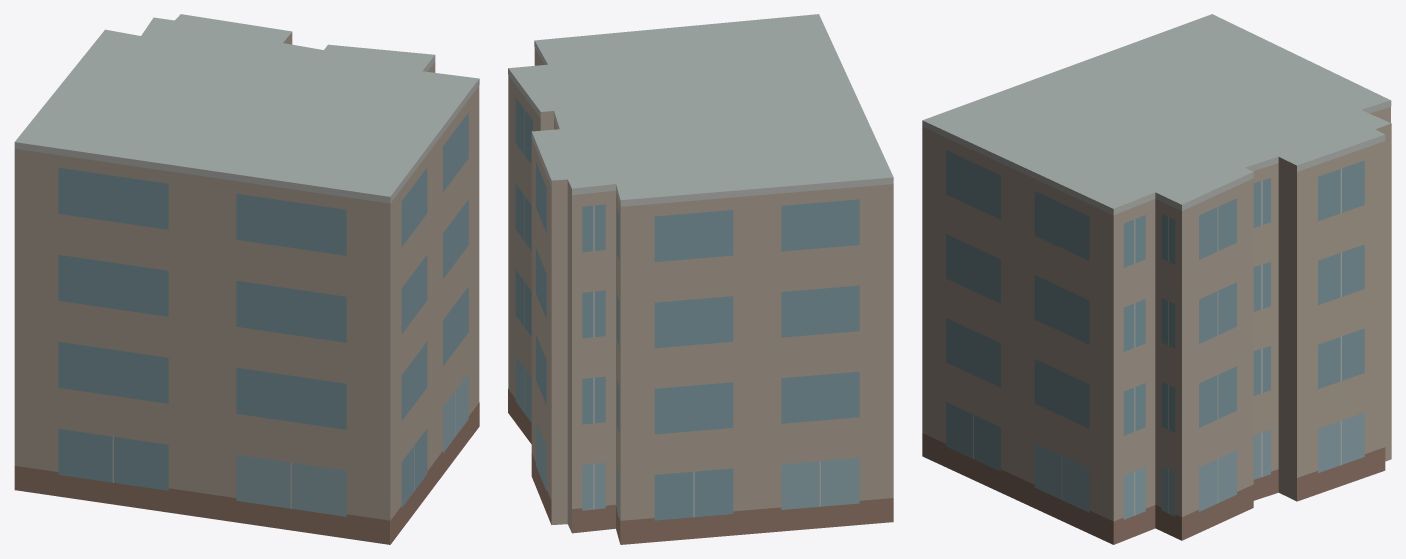
The model's file is survey-upis-32629294.glb.
3 renders of one model, left to right at view 1: azimuth 30°, elevation 25°; view 2: azimuth 150°, elevation 25°; view 3: azimuth 270°, elevation 25°, orthographic. The views are drawn at different scales.
Parts seen in each view (by area): view 1: survey-upis-32629294.tmp; view 2: survey-upis-32629294.tmp; view 3: survey-upis-32629294.tmp.
Boxes of the visible parts, x1,y1,x2,y2 form: survey-upis-32629294.tmp: (14,14,479,544); survey-upis-32629294.tmp: (508,14,893,544); survey-upis-32629294.tmp: (922,14,1391,544).
Bounding box in the file's own units: 15.94 × 12.8 × 16.22.
